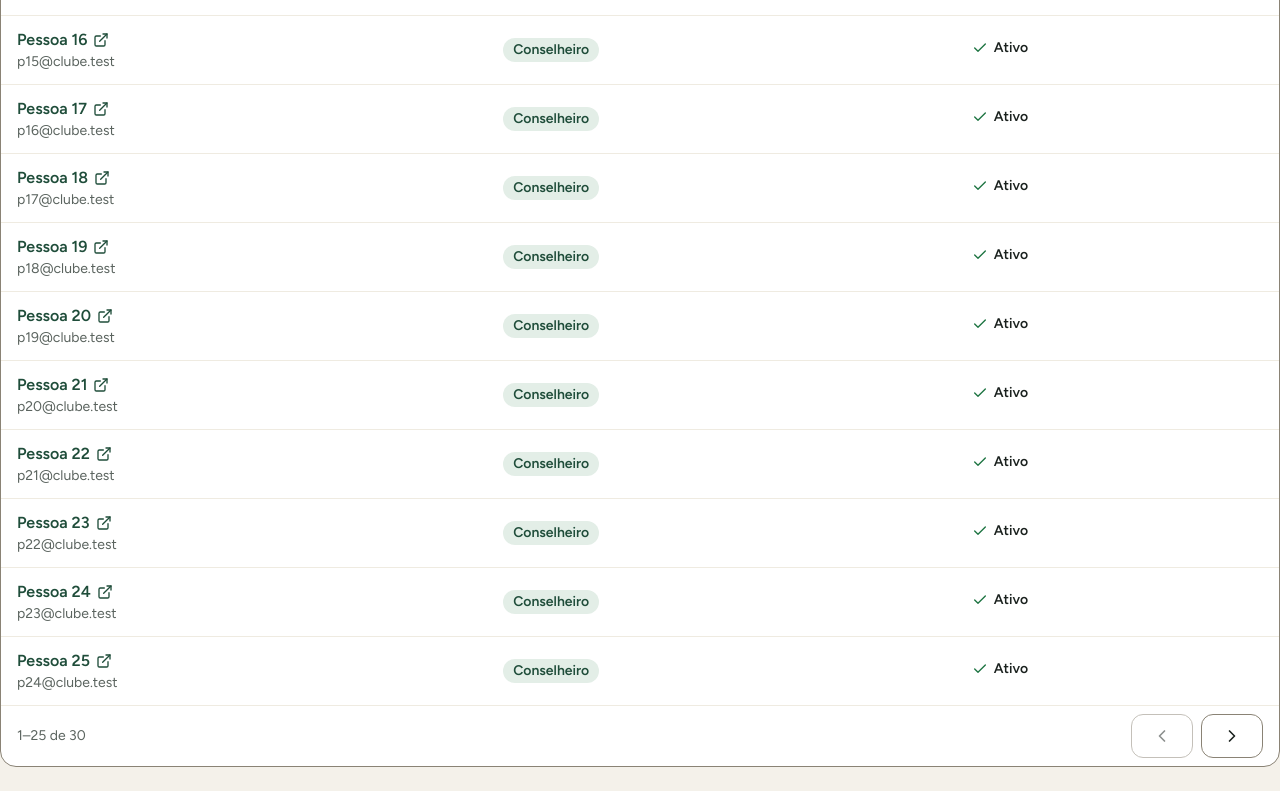
Scenario: lista de usuários › pagina de 25 em 25
(page scrolled)
Expected: the text "1–25 de 30" is shown, top-left (17, 726), bottom-right (86, 746)
Click the button named "Próxima página" at (1232, 736), box top-left (1201, 714), bottom-right (1263, 758)
(page scrolled)
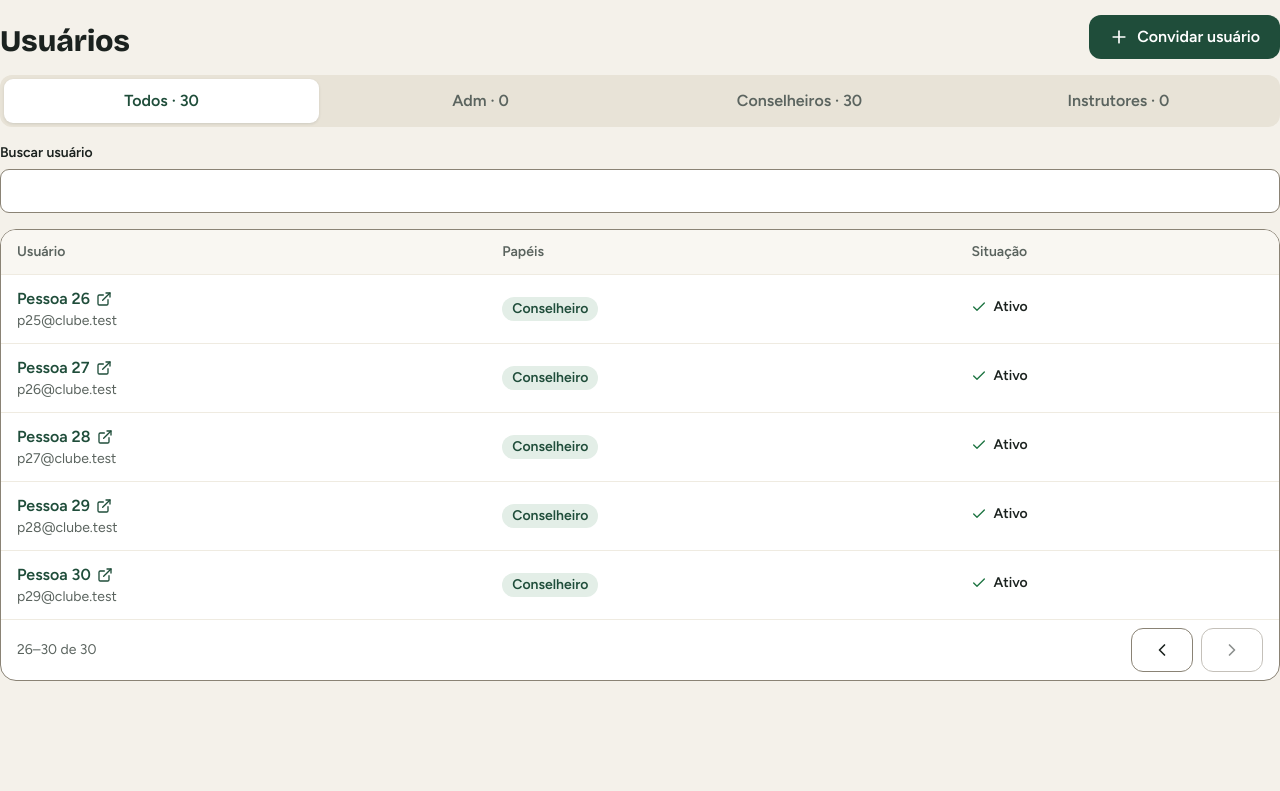
Now the text "26–30 de 30" is shown, box top-left (17, 640), bottom-right (96, 660)
Now the text "Pessoa 30" is shown, box top-left (17, 563), bottom-right (113, 587)
